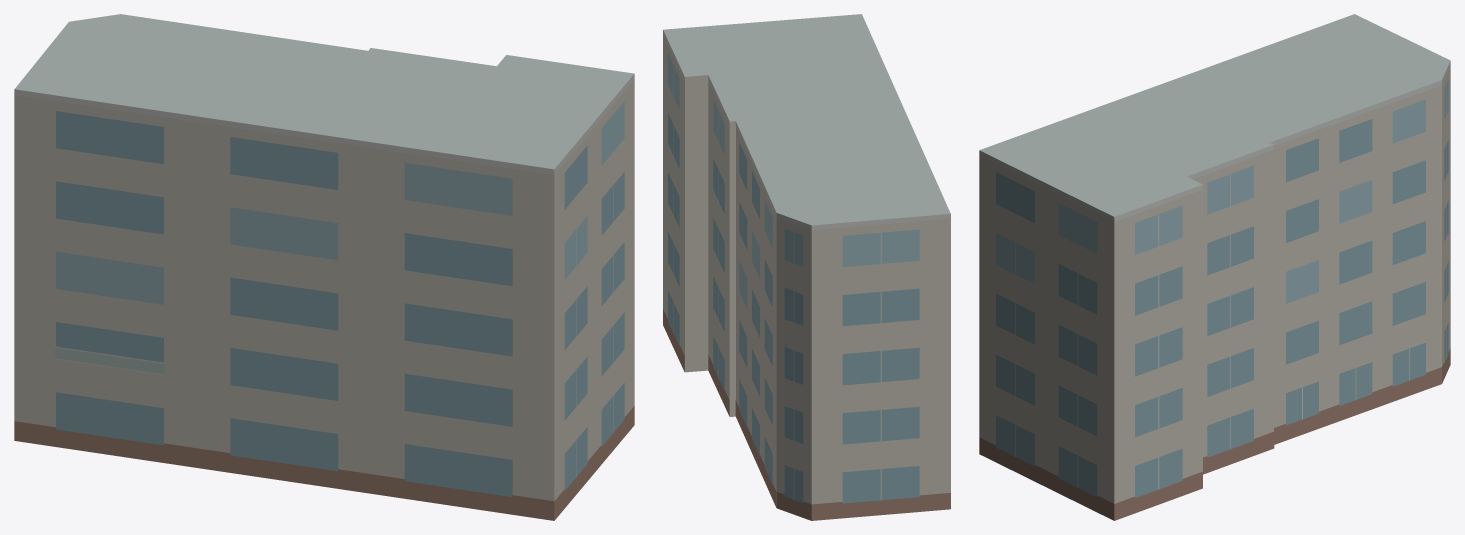
The model's file is survey-upis-32636308.glb.
3 views of the same model, side by side, from view 1: azimuth 30°, elevation 25°; view 2: azimuth 150°, elevation 25°; view 3: azimuth 270°, elevation 25° (orthographic). The views are drawn at different scales.
Parts seen in each view (by area): view 1: survey-upis-32636308.tmp; view 2: survey-upis-32636308.tmp; view 3: survey-upis-32636308.tmp.
Part boxes in pixels (left/top/right/bottom): survey-upis-32636308.tmp: left=14, top=14, right=634, bottom=520; survey-upis-32636308.tmp: left=663, top=14, right=950, bottom=520; survey-upis-32636308.tmp: left=979, top=14, right=1450, bottom=520.
Size of the model in its own units: 21.35 by 14.9 by 20.96.
